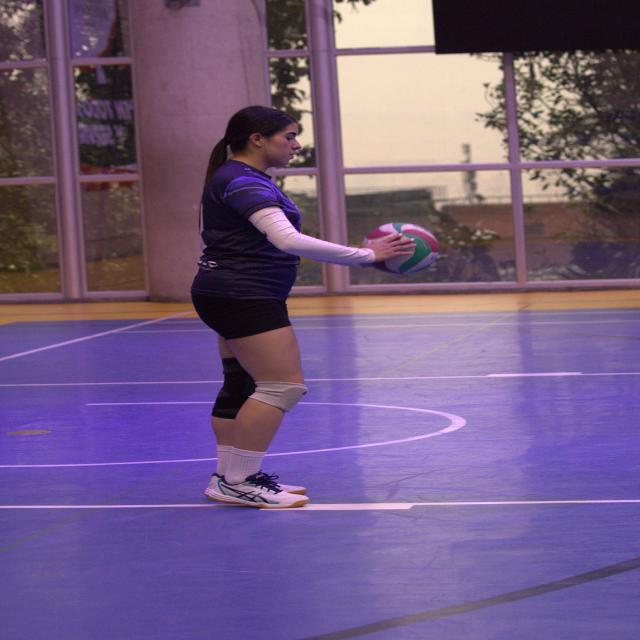volleyball: (369, 222, 435, 273)
